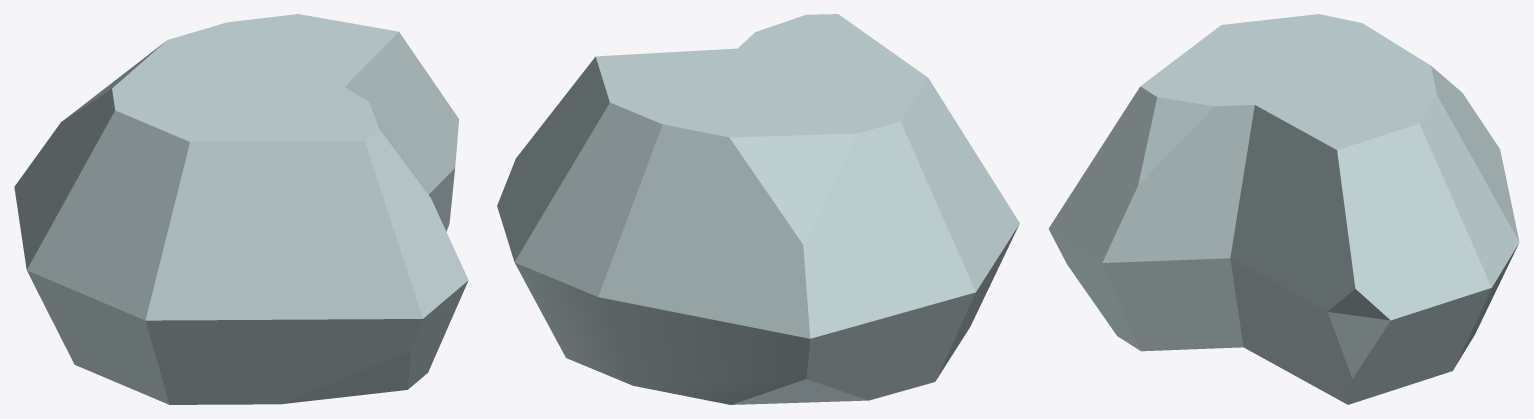
The model's file is stone-larged.glb.
3 renders of one model, left to right at view 1: azimuth 30°, elevation 25°; view 2: azimuth 150°, elevation 25°; view 3: azimuth 270°, elevation 25°, orthographic. The views are drawn at different scales.
Visible parts, largest first — view 1: stone_largeD; view 2: stone_largeD; view 3: stone_largeD.
Part boxes in pixels (x1,y1,x2,y2): stone_largeD: [14, 14, 468, 404]; stone_largeD: [497, 14, 1019, 404]; stone_largeD: [1048, 14, 1519, 404].
Size of the model in its own units: 1.07 by 0.5683 by 1.03.
